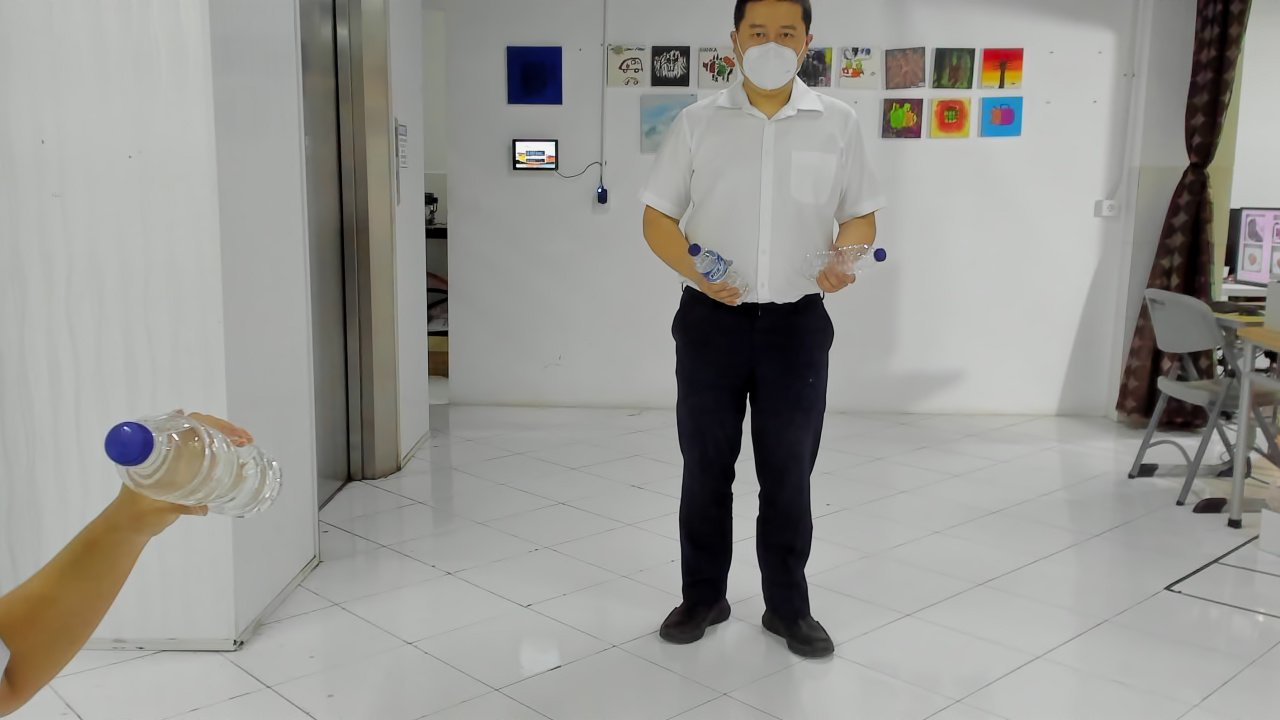Bottle: (113, 424, 286, 520), (690, 249, 756, 310), (803, 249, 891, 287)
